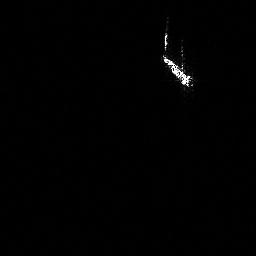ship: (159, 51, 196, 89)
